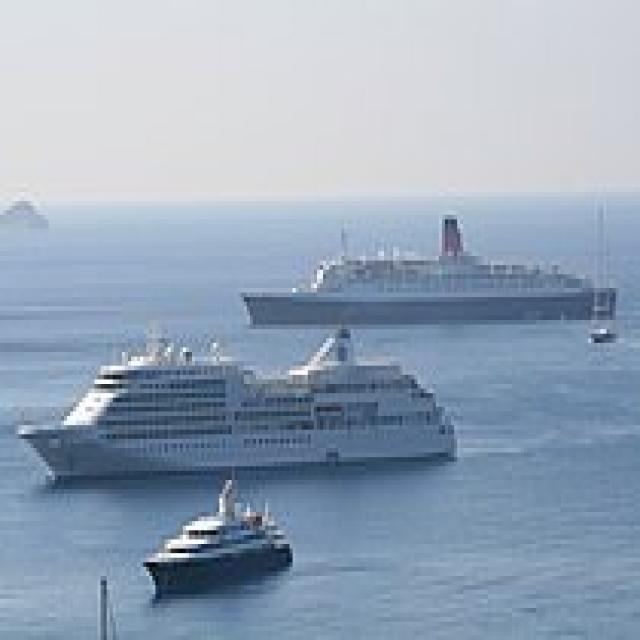Ship: (23, 330, 471, 499), (230, 207, 614, 344)
